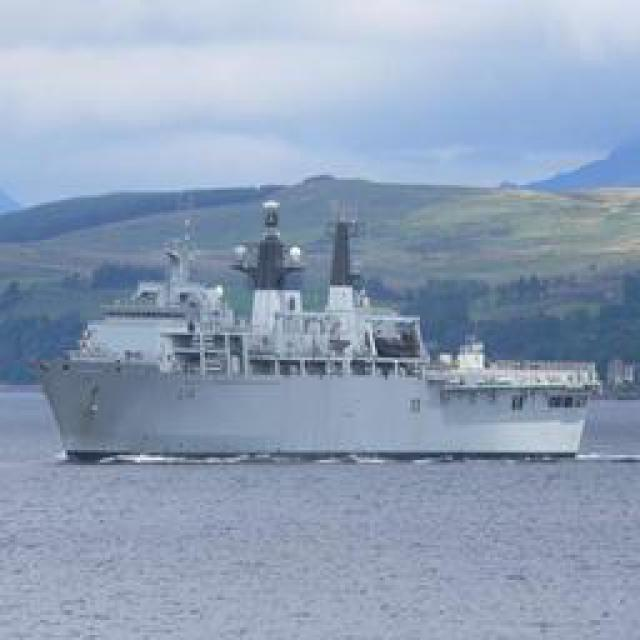Ship: (40, 194, 605, 469)
